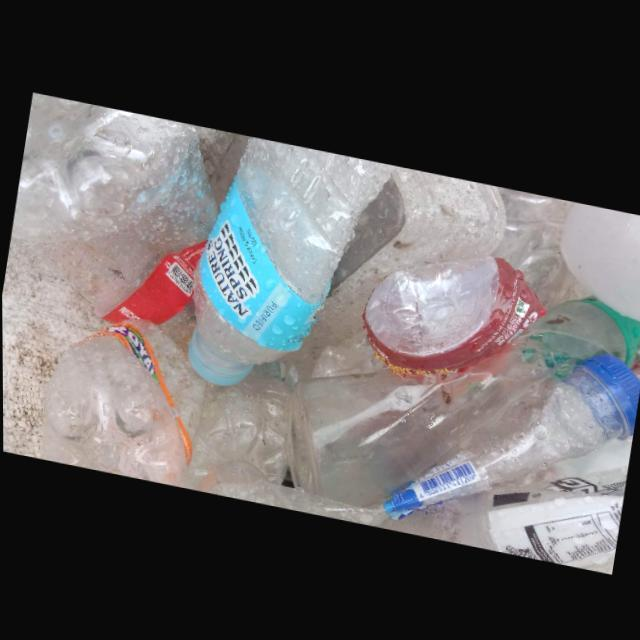plastic: (286, 292, 640, 508), (313, 347, 640, 523), (187, 135, 397, 384), (16, 93, 217, 343), (361, 250, 547, 379), (190, 359, 292, 483)
